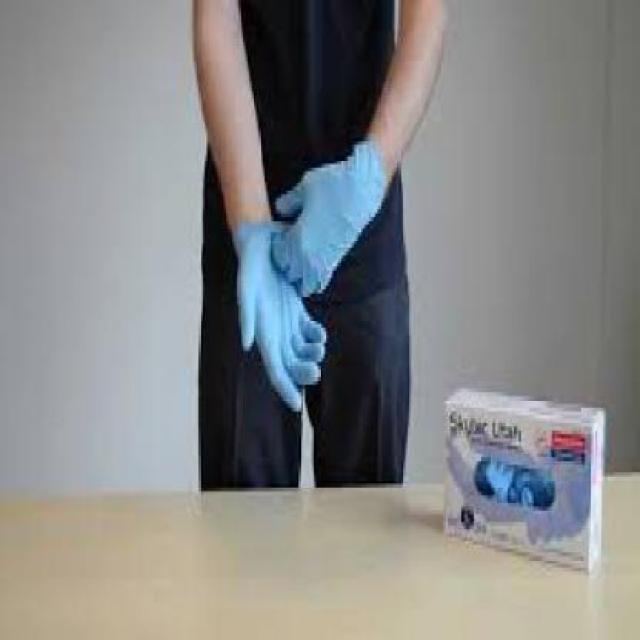B3: (273, 137, 389, 320), (232, 214, 331, 415)
